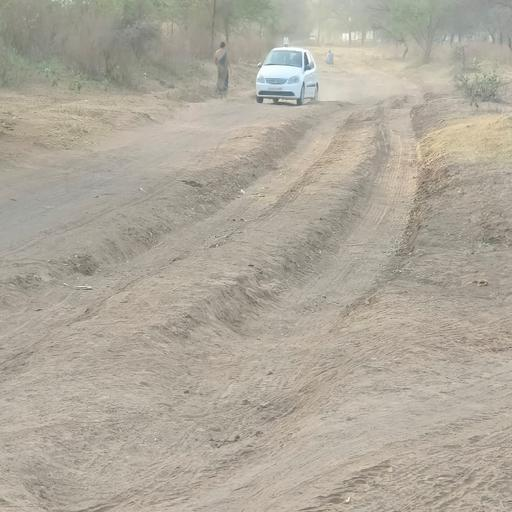vehicle_track: (89, 80, 424, 512), (0, 109, 354, 368), (150, 356, 512, 512), (0, 101, 285, 253)
